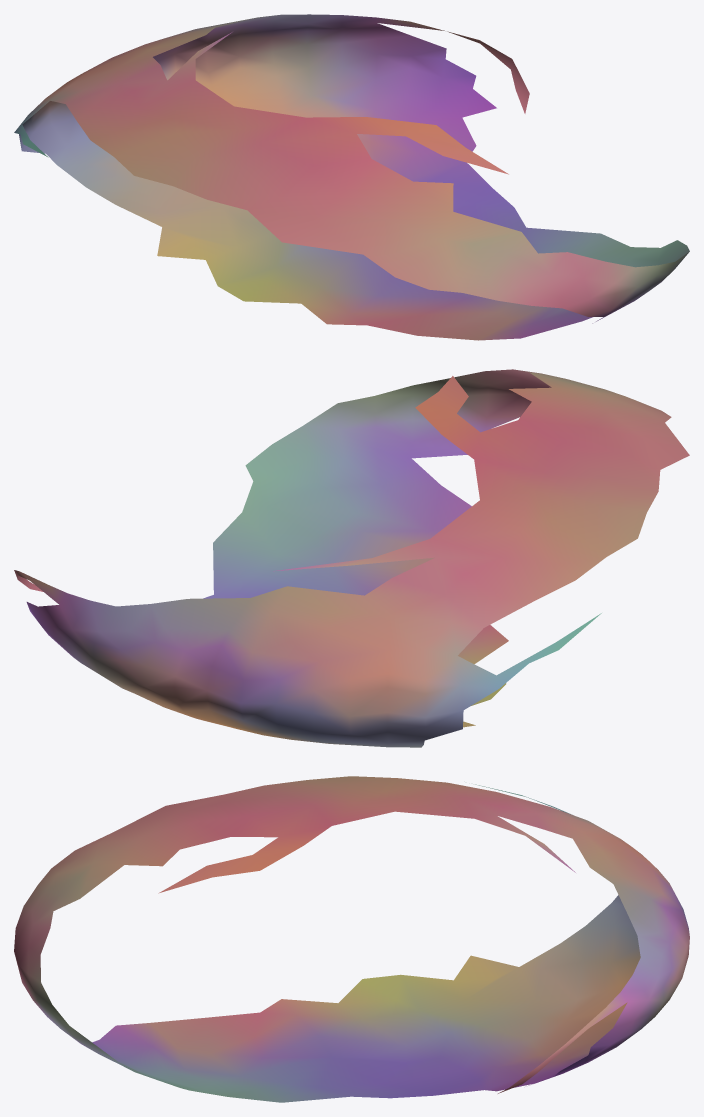
3 renders of one model, top to bottom at view 1: azimuth 30°, elevation 25°; view 2: azimuth 150°, elevation 25°; view 3: azimuth 270°, elevation 25°, orthographic. The views are drawn at different scales.
Visible parts, largest first — view 1: starcloud137; view 2: starcloud137; view 3: starcloud137.
Boxes of the visible parts, x1,y1,x2,y2 form: starcloud137: (14,14,689,340); starcloud137: (14,369,689,747); starcloud137: (14,776,689,1102).
Bounding box in the file's own units: 0.4084 × 0.1469 × 0.5.
